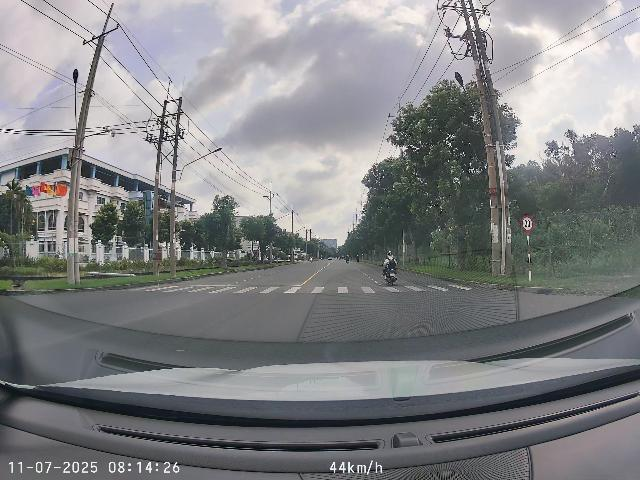127-toc-do-toi-da-30: (521, 215, 534, 232)
